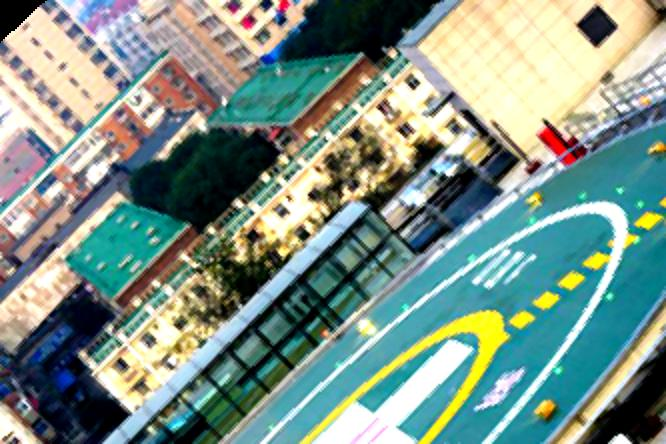Apron: (335, 346, 468, 432)
